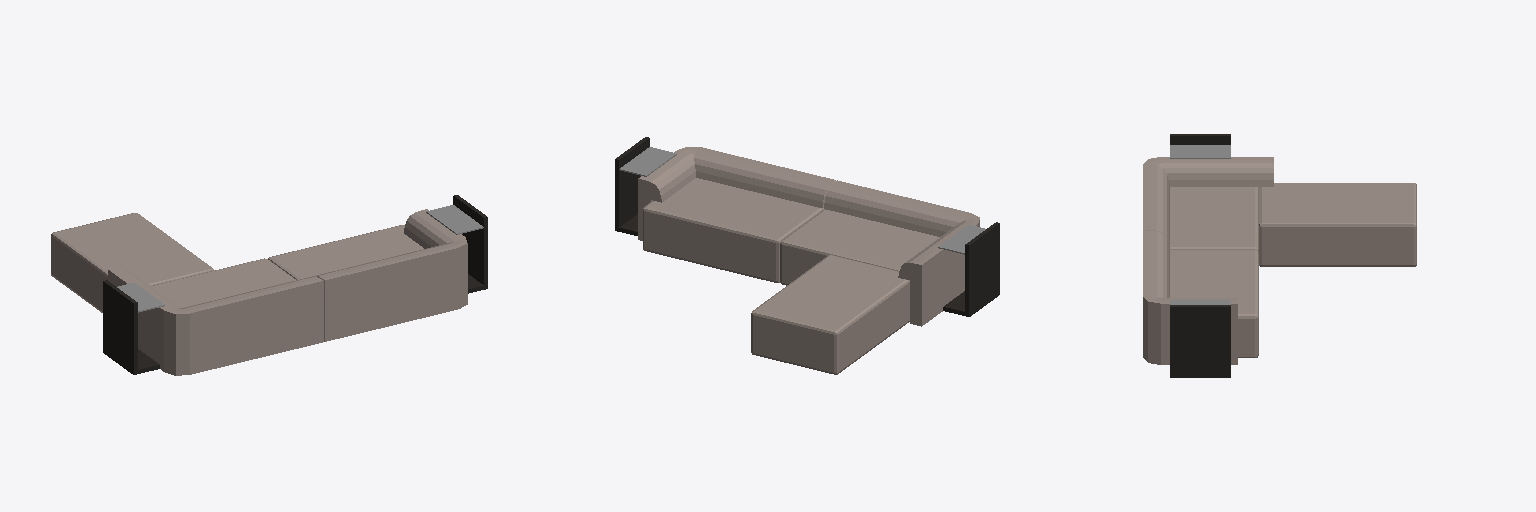
Rendered from sofa_01.obj.
The picture shows the model from 3 angles: view 1: azimuth 30°, elevation 25°; view 2: azimuth 150°, elevation 25°; view 3: azimuth 270°, elevation 25°; orthographic projection.
Parts seen in each view (by area): view 1: sofa_01; view 2: sofa_01; view 3: sofa_01.
Part boxes in pixels (bbox=[...]): sofa_01: bbox=[51, 195, 487, 375]; sofa_01: bbox=[615, 137, 999, 374]; sofa_01: bbox=[1143, 134, 1416, 377].
Size of the model in its own units: 3.87 by 0.7502 by 2.59.